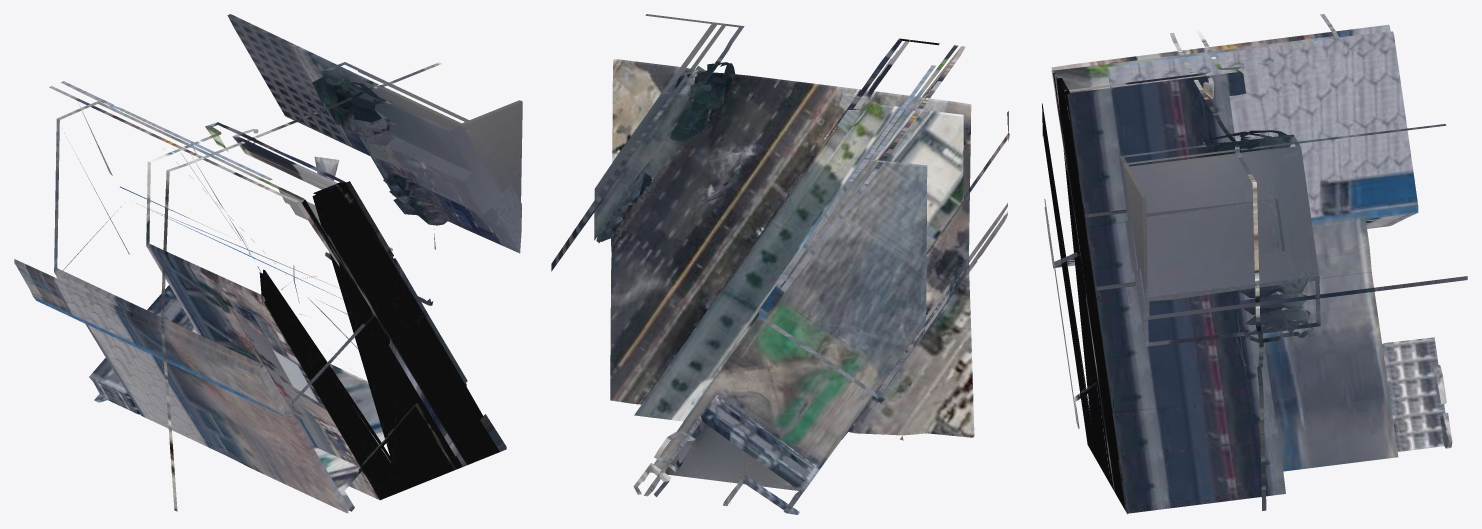
Rendered from tile_053.glb.
The picture shows the model from 3 angles, left to right: view 1: azimuth 30°, elevation 25°; view 2: azimuth 150°, elevation 25°; view 3: azimuth 270°, elevation 25°; orthographic projection. The views are drawn at different scales.
Size of the model in its own units: 91.15 by 77.59 by 89.9.
Materials: 2 (2 with a texture image).
